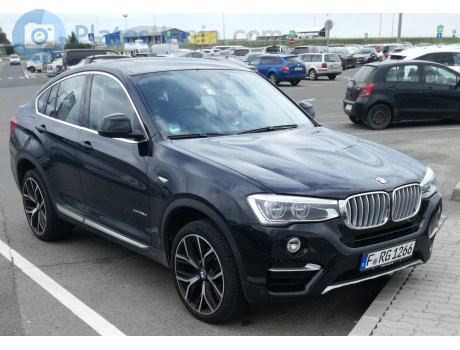License Plates: (364, 245, 422, 262)
